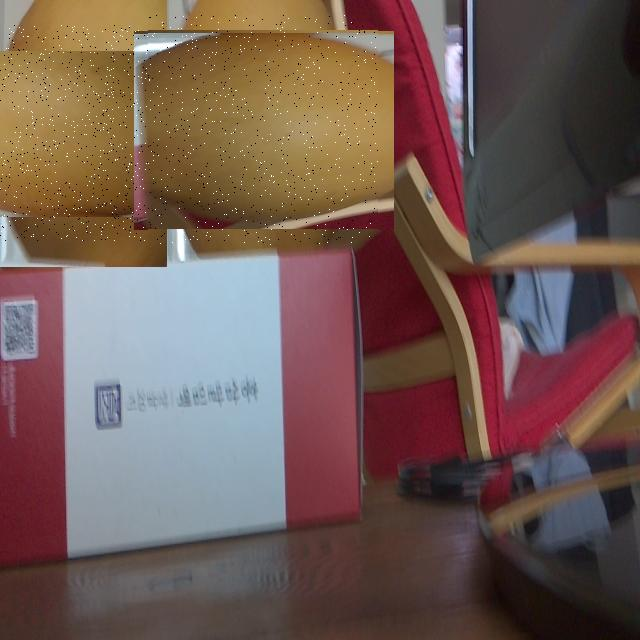pear: (148, 16, 378, 246), (0, 25, 192, 241)
